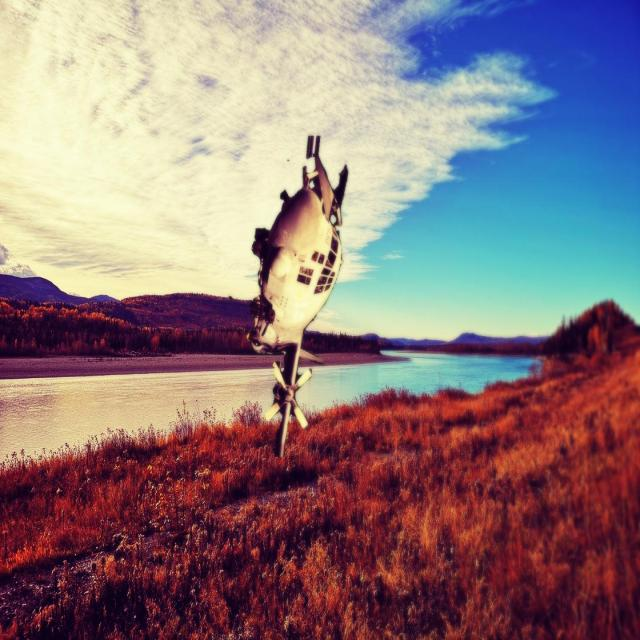airplane: (245, 134, 349, 458)
